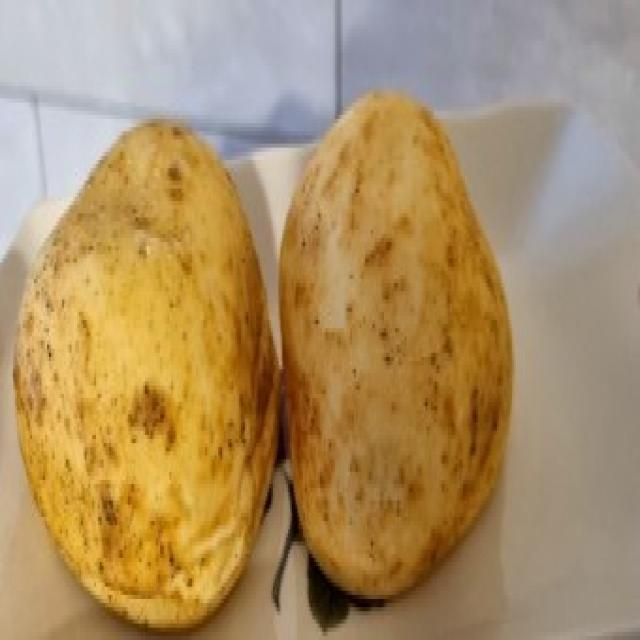potato: (11, 112, 297, 632), (277, 83, 521, 606)
